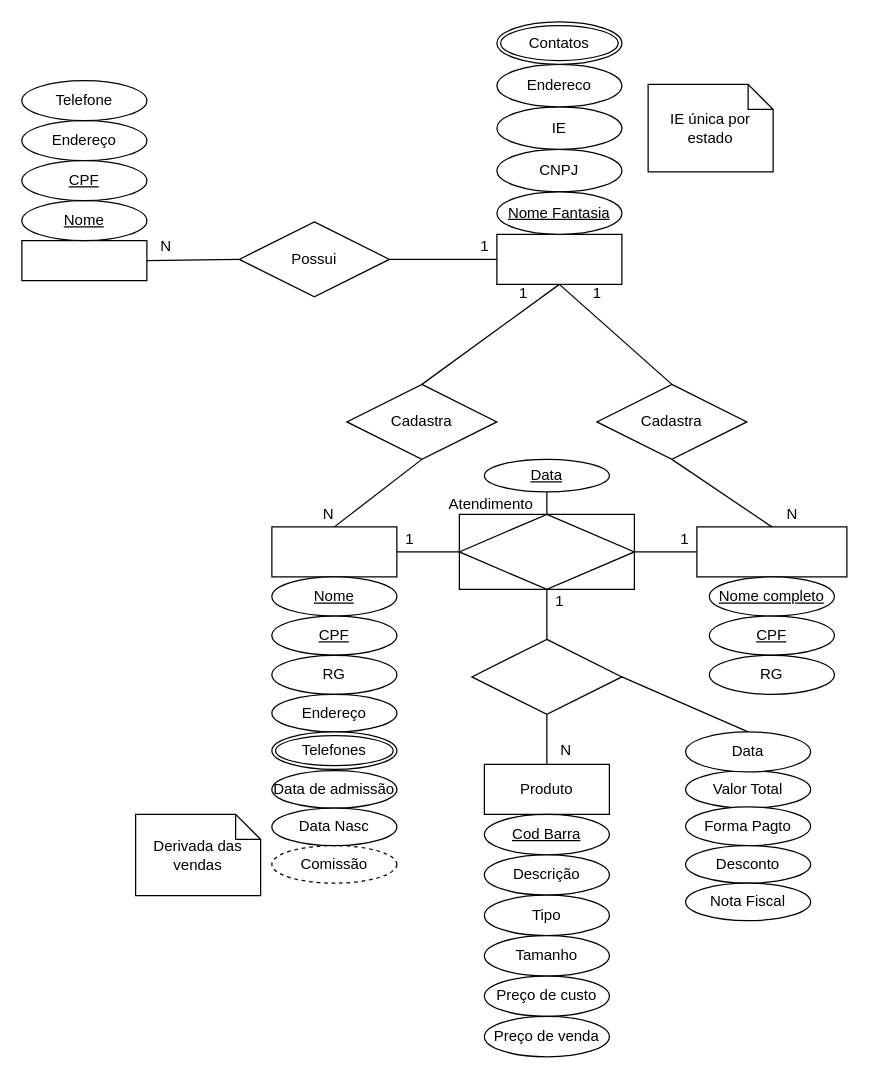
The diagram is 869 pixels wide and 1079 high, and some of its shapes have lost their labels. Here are the shapes that lost their labels. From the top down, the box of each, then its label:
(21, 239, 147, 281): Proprietário
(496, 233, 622, 284): Loja
(271, 526, 397, 577): Vendedor
(458, 513, 634, 589): Atende
(696, 526, 847, 577): Comprador
(471, 638, 622, 714): Vende
